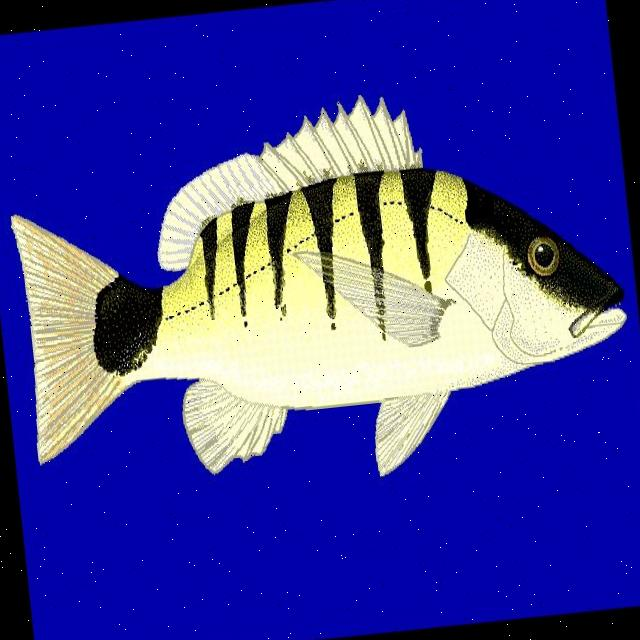ikan: (1, 69, 640, 510)
